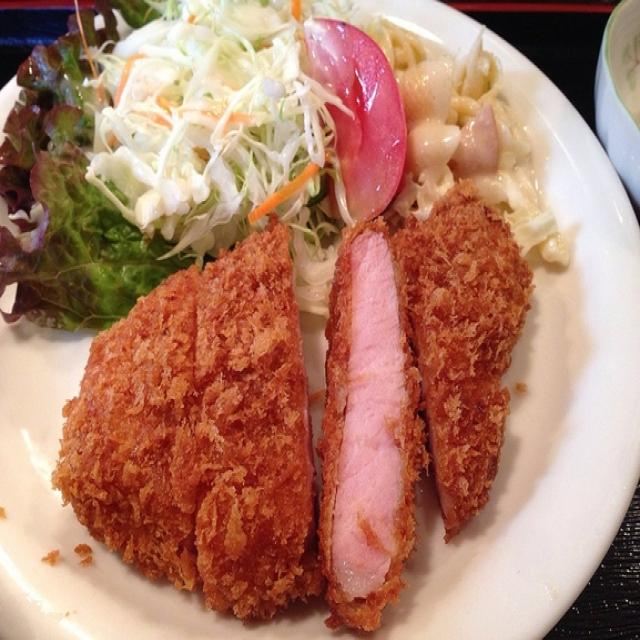炸货点心: (26, 23, 604, 618)
